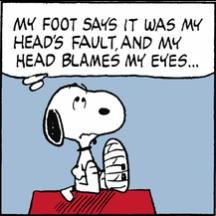snoopy: (42, 82, 130, 202)
